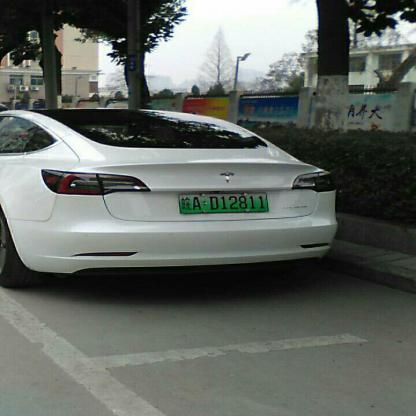lp: (179, 192, 268, 212)
